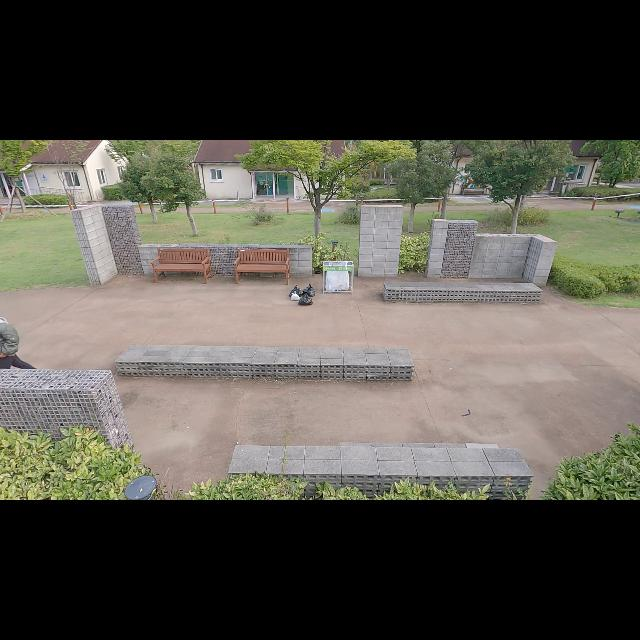trash: (298, 292, 314, 306), (302, 282, 316, 296), (289, 285, 303, 297), (290, 291, 300, 301)
